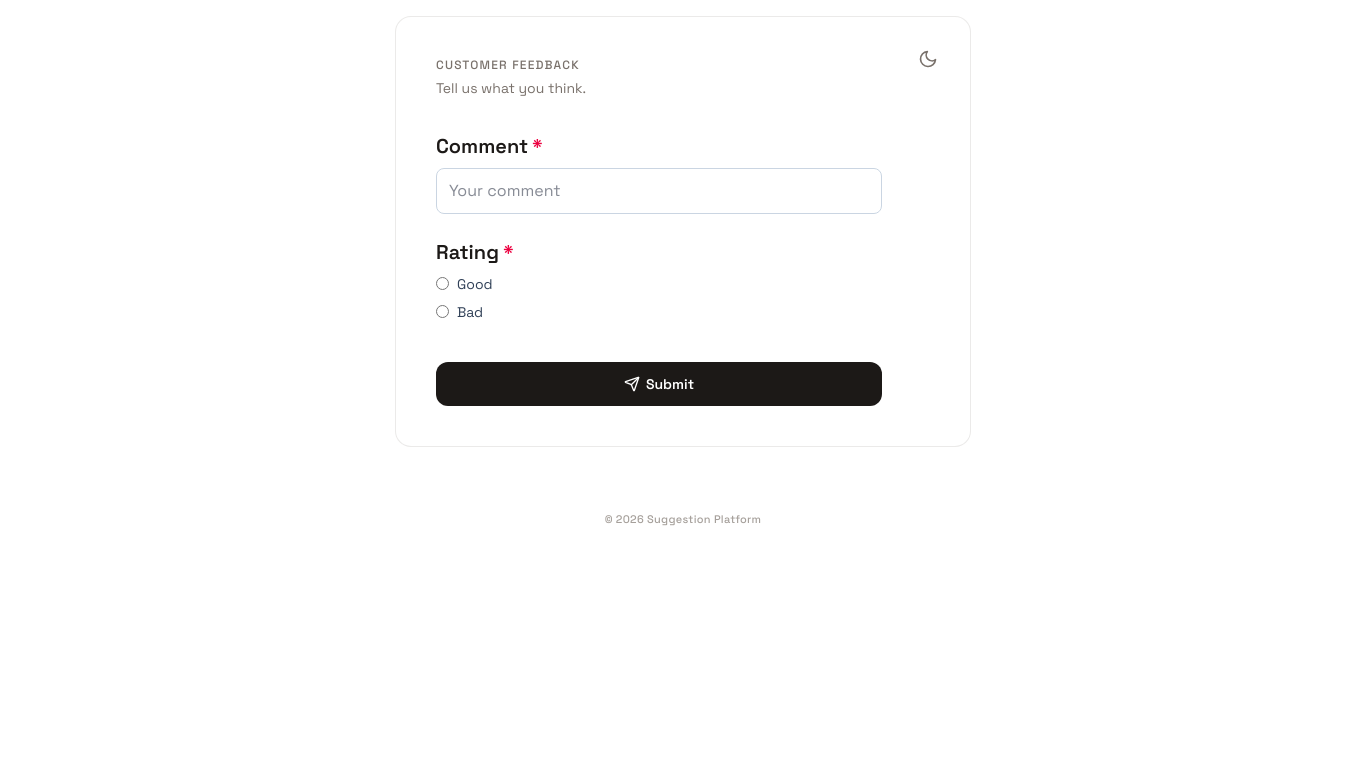
Test: FormRenderPage › submit with required fields filled shows thank you message
Expected: the text "Customer Feedback" is shown, [436,57,580,73]
Step 1. Type "Great service" into the field with placeholder "Your comment" → (659, 191), box [436,168,882,214]
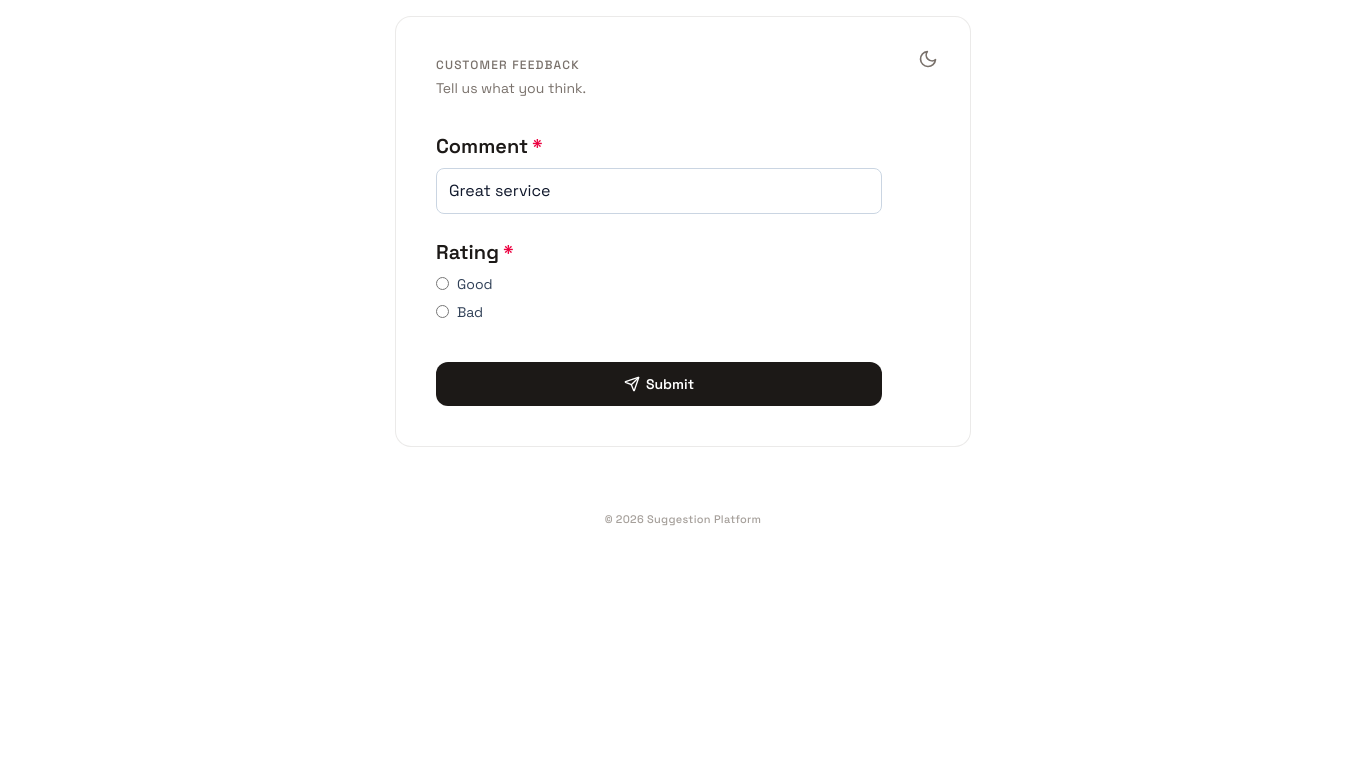
Step 2. Click the radio button labelled "Good" → (442, 284), box [436,277,449,290]
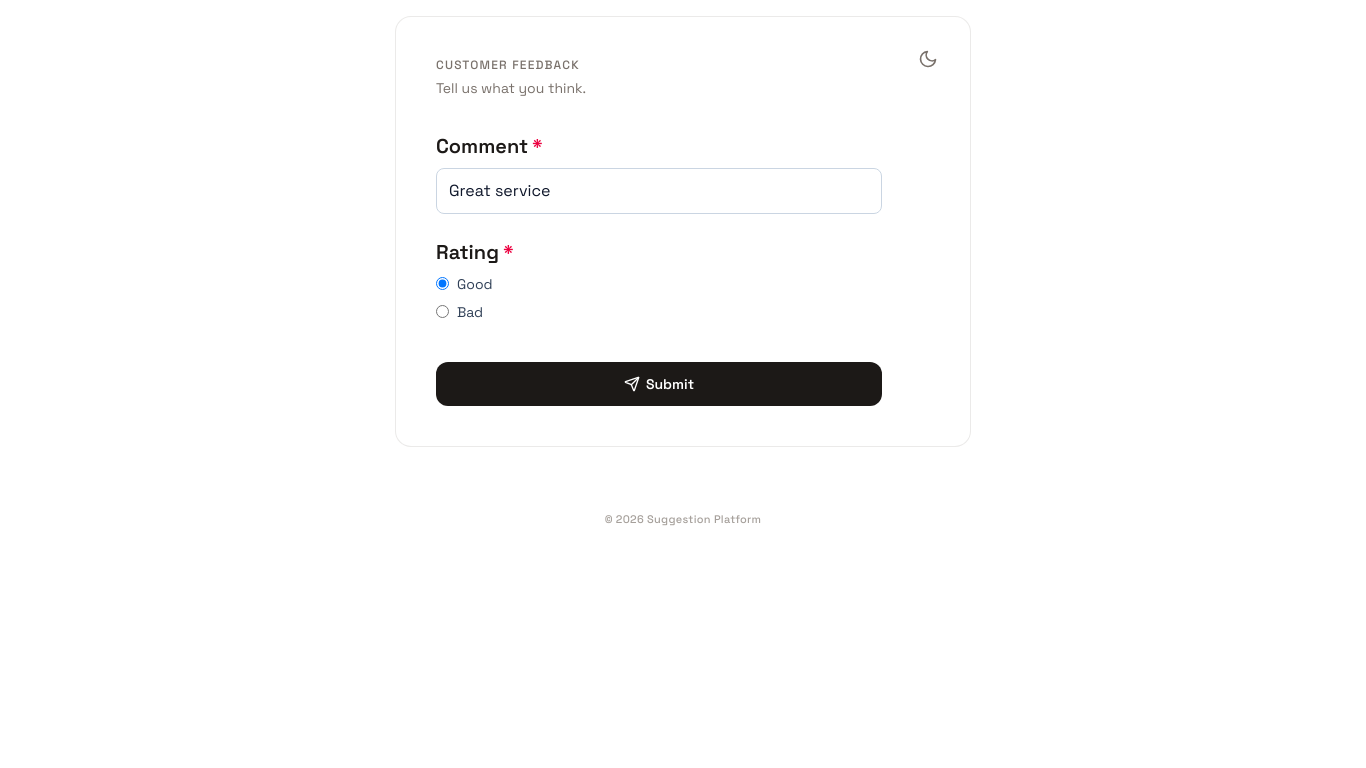
Step 3. Click the button "Submit" → (659, 384), box [436,362,882,406]
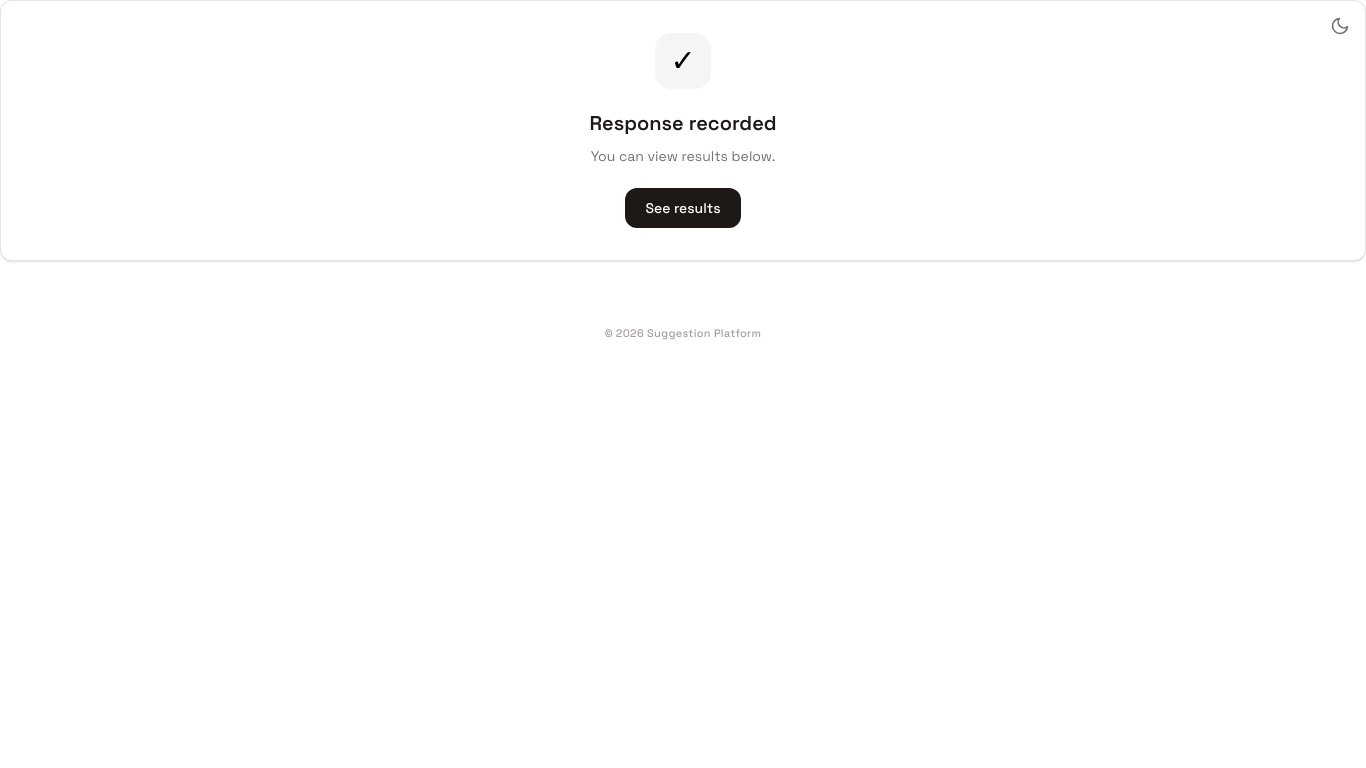
Now the heading "Response recorded" is shown, box [590,110,777,136]
Now the text "You can view results below." is shown, box [591,147,775,165]
